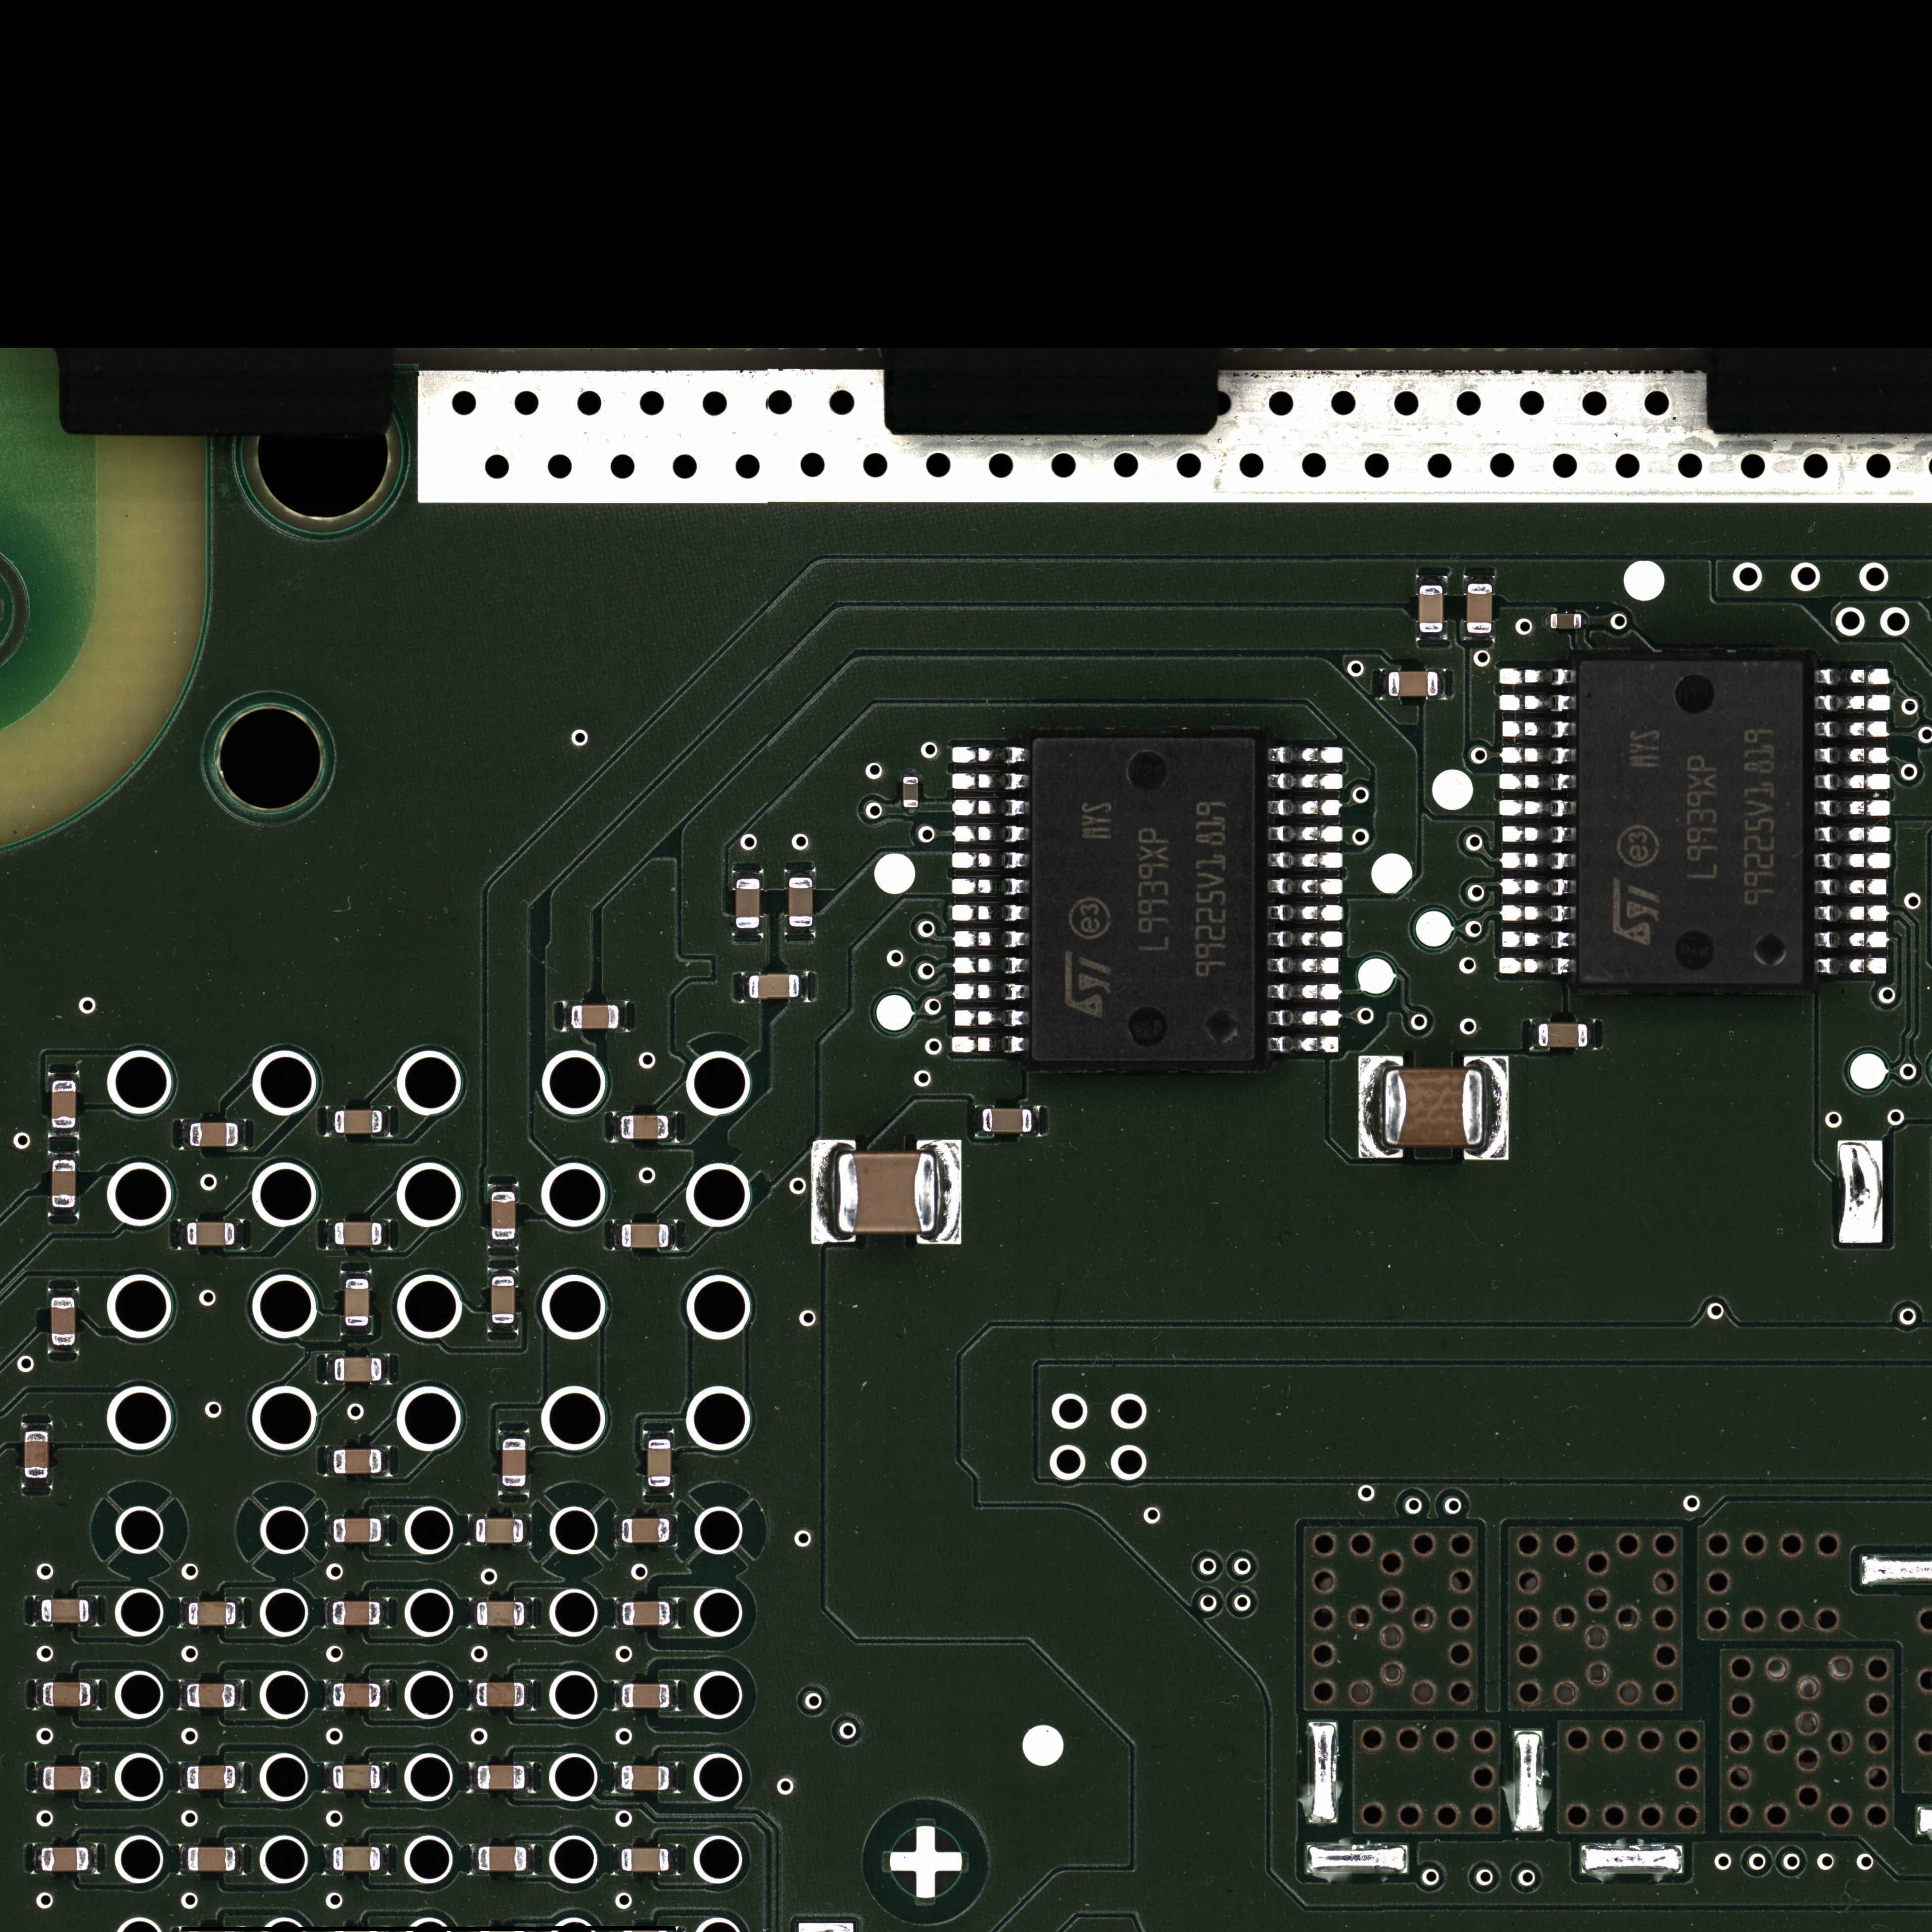Package: (1576, 656, 1813, 991), (1578, 658, 1805, 987), (1033, 736, 1256, 1064), (838, 1153, 935, 1233), (1385, 1069, 1483, 1145), (1388, 671, 1438, 696), (1467, 583, 1492, 633), (749, 974, 800, 999), (50, 1297, 76, 1346), (982, 1109, 1032, 1133), (621, 1765, 669, 1790), (736, 879, 760, 928), (333, 1449, 382, 1474), (788, 877, 813, 927), (491, 1191, 516, 1240), (478, 1846, 527, 1871), (344, 1279, 370, 1326), (333, 1765, 380, 1790), (1539, 1023, 1588, 1048), (187, 1765, 236, 1789), (476, 1518, 524, 1543), (622, 1684, 670, 1708), (332, 1601, 380, 1626), (477, 1682, 525, 1707), (622, 1518, 670, 1543), (41, 1847, 89, 1872), (477, 1601, 525, 1626), (51, 1080, 76, 1128), (188, 1847, 236, 1872), (43, 1682, 91, 1707), (190, 1122, 238, 1147), (333, 1846, 380, 1871), (502, 1439, 527, 1486), (621, 1224, 669, 1248), (333, 1518, 381, 1543), (477, 1765, 525, 1789), (622, 1601, 670, 1626), (333, 1683, 381, 1707), (621, 1115, 669, 1139), (51, 1160, 76, 1208), (334, 1357, 382, 1382), (572, 1005, 619, 1029), (24, 1431, 48, 1478), (43, 1766, 91, 1790), (1419, 585, 1443, 632), (187, 1222, 235, 1246), (187, 1684, 235, 1707), (334, 1222, 382, 1246), (621, 1848, 669, 1872), (188, 1602, 236, 1626), (41, 1599, 89, 1623), (491, 1276, 515, 1323), (647, 1439, 671, 1487), (334, 1110, 383, 1133), (1550, 613, 1582, 629), (903, 776, 918, 807)
Solder: (936, 1139, 962, 1245), (1358, 1055, 1384, 1159), (1484, 1055, 1508, 1161), (811, 1140, 836, 1245), (1499, 693, 1576, 713), (1498, 799, 1576, 818), (950, 904, 1029, 922), (1498, 957, 1575, 976), (1499, 667, 1575, 686), (951, 1035, 1027, 1054), (951, 851, 1028, 870), (1500, 746, 1575, 766), (1499, 773, 1575, 791), (1815, 772, 1891, 791), (1267, 746, 1343, 765), (1499, 852, 1575, 870), (1815, 799, 1890, 818), (951, 773, 1029, 791), (951, 877, 1029, 896), (952, 746, 1027, 765), (1268, 904, 1343, 922), (1268, 851, 1343, 870), (1815, 746, 1890, 765), (952, 930, 1029, 948), (952, 983, 1029, 1001), (952, 957, 1029, 975), (1501, 930, 1576, 949), (1500, 825, 1575, 844), (954, 1009, 1029, 1028), (1268, 877, 1343, 896), (1814, 852, 1891, 870), (952, 825, 1028, 843), (1501, 720, 1575, 739), (1814, 930, 1888, 949), (1499, 905, 1576, 923), (1499, 878, 1576, 896), (1814, 877, 1887, 896), (1267, 772, 1343, 790), (1815, 825, 1890, 843), (1815, 668, 1890, 686), (1814, 904, 1889, 922), (1815, 957, 1886, 976), (1267, 1009, 1342, 1027), (1267, 799, 1342, 817), (1268, 930, 1343, 948), (1267, 983, 1342, 1001), (1814, 694, 1890, 712), (1268, 825, 1344, 843), (951, 799, 1029, 817), (1814, 721, 1889, 738), (1266, 957, 1341, 974), (1268, 1035, 1340, 1054), (1416, 575, 1448, 584), (90, 1595, 99, 1627), (325, 1219, 334, 1250), (236, 1680, 245, 1710), (48, 1129, 80, 1138), (340, 1327, 373, 1336), (180, 1119, 190, 1150), (325, 1354, 334, 1384), (525, 1680, 534, 1710), (48, 1288, 79, 1297), (498, 1429, 530, 1438), (487, 1324, 519, 1333), (21, 1422, 52, 1431), (669, 1111, 678, 1143), (800, 971, 809, 1002), (1439, 668, 1448, 699), (325, 1106, 334, 1137), (612, 1219, 621, 1251), (486, 1240, 519, 1249), (48, 1151, 79, 1159), (1379, 669, 1388, 700), (1529, 1019, 1538, 1050), (612, 1112, 621, 1143), (178, 1219, 187, 1250), (381, 1680, 390, 1710), (381, 1762, 389, 1793), (642, 1430, 675, 1439), (486, 1183, 519, 1191), (48, 1071, 80, 1080), (179, 1597, 188, 1628), (236, 1762, 245, 1792), (324, 1762, 333, 1792), (21, 1479, 51, 1488), (381, 1597, 389, 1628), (525, 1597, 534, 1628), (381, 1844, 389, 1875), (732, 870, 764, 878), (487, 1267, 519, 1276), (643, 1487, 675, 1496), (48, 1208, 79, 1217), (974, 1105, 982, 1137), (324, 1845, 333, 1875), (468, 1598, 477, 1628), (382, 1353, 390, 1385), (1464, 575, 1495, 583), (524, 1514, 532, 1545), (498, 1487, 530, 1496), (383, 1219, 391, 1250), (382, 1446, 390, 1477), (784, 927, 815, 935), (670, 1844, 678, 1875), (340, 1270, 371, 1278), (34, 1762, 43, 1793), (1032, 1106, 1041, 1136), (785, 869, 816, 877), (562, 1001, 571, 1032), (467, 1514, 475, 1545), (740, 972, 749, 1003), (382, 1515, 390, 1546), (89, 1843, 97, 1874), (91, 1679, 99, 1710), (670, 1680, 678, 1711), (469, 1762, 477, 1792), (236, 1844, 244, 1875), (525, 1762, 533, 1792), (48, 1346, 79, 1353), (671, 1597, 678, 1629), (670, 1219, 677, 1251), (383, 1106, 391, 1137), (670, 1762, 678, 1793), (613, 1845, 621, 1875), (613, 1681, 622, 1711), (324, 1598, 332, 1628), (325, 1446, 333, 1477), (620, 1001, 628, 1032), (324, 1681, 333, 1710), (235, 1219, 243, 1250), (670, 1515, 678, 1546), (237, 1597, 244, 1628), (614, 1598, 622, 1628), (325, 1515, 333, 1546), (468, 1680, 476, 1710), (179, 1762, 187, 1792), (92, 1762, 99, 1792), (1462, 634, 1495, 641), (33, 1596, 41, 1626), (470, 1844, 478, 1874), (1416, 633, 1448, 640), (179, 1680, 187, 1710), (239, 1118, 246, 1150), (1588, 1019, 1595, 1050), (179, 1845, 187, 1874), (33, 1843, 41, 1874), (614, 1515, 621, 1546), (527, 1844, 534, 1875), (35, 1680, 42, 1709), (613, 1763, 621, 1792), (732, 929, 764, 936), (902, 769, 919, 776), (1582, 614, 1589, 629), (903, 808, 919, 814), (1544, 613, 1550, 629)
